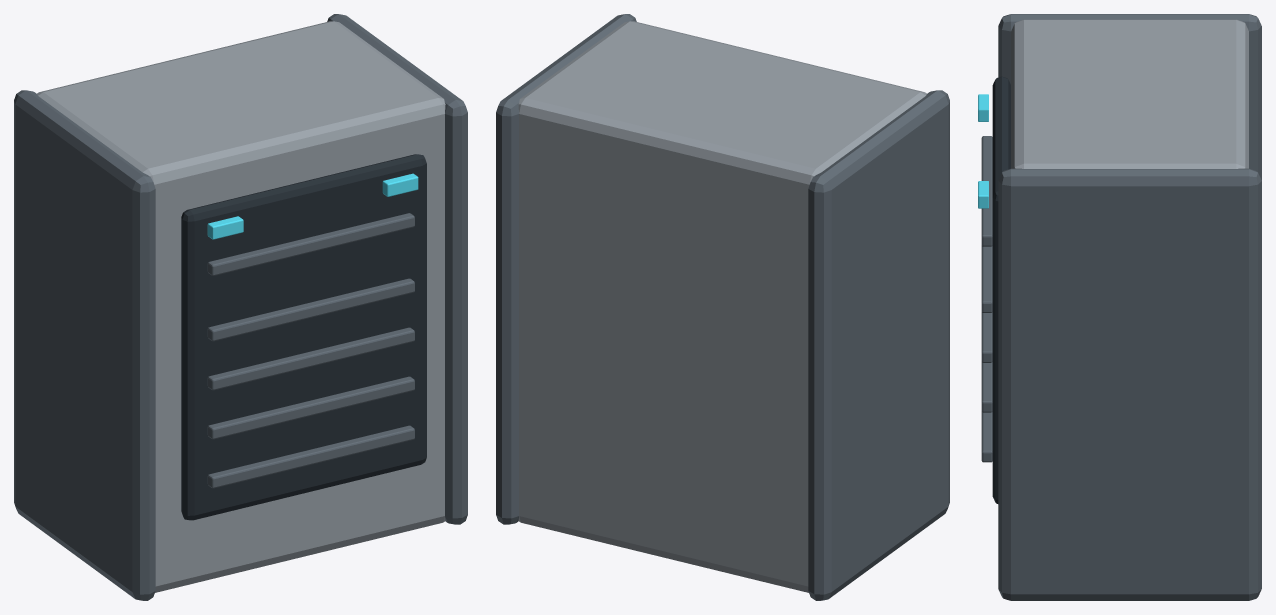
The model's file is 3_Service.fbx.
3 views of the same model, side by side, from view 1: azimuth 30°, elevation 25°; view 2: azimuth 150°, elevation 25°; view 3: azimuth 270°, elevation 25° (orthographic).
Visible parts, largest first — view 1: Body; view 2: Body; view 3: Body.
Part boxes in pixels (x1,y1,x2,y2): Body: (14, 14, 467, 600); Body: (496, 14, 949, 600); Body: (978, 14, 1261, 600).
Bounding box in the file's own units: 1.07 × 1.3 × 0.775.
